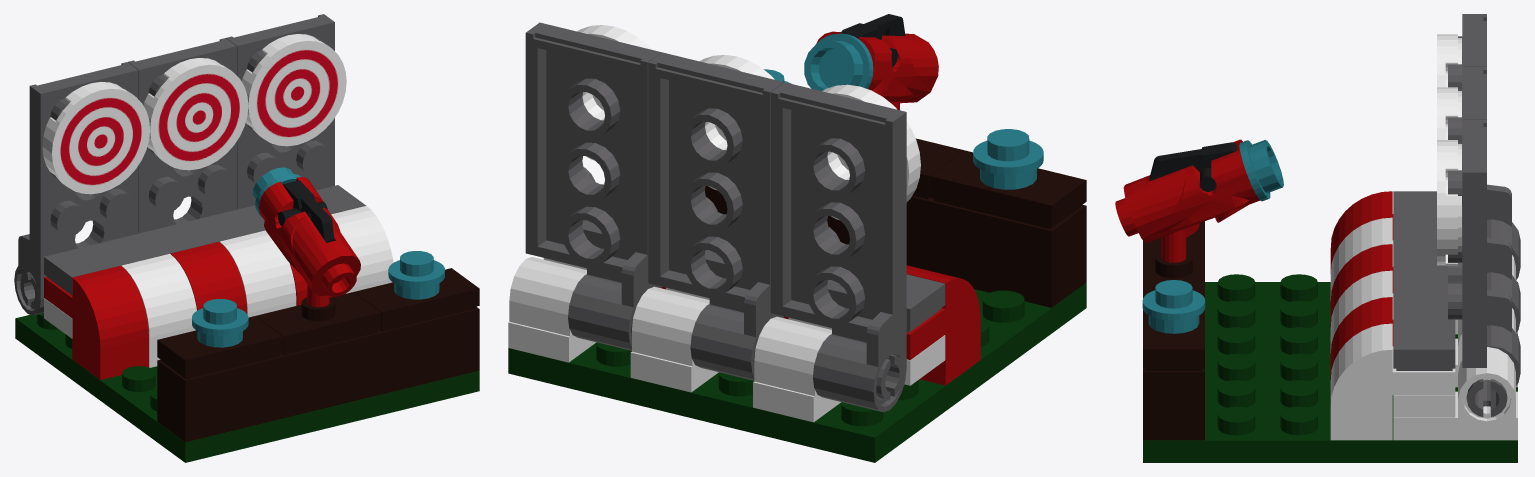
The model's file is WaterGun.FBX.
3 renders of one model, left to right at view 1: azimuth 30°, elevation 25°; view 2: azimuth 150°, elevation 25°; view 3: azimuth 270°, elevation 25°, orthographic. The views are drawn at different scales.
Visible parts, largest first — view 1: Part_3958.1; view 2: Part_3958.1; view 3: Part_3958.1.
Boxes of the visible parts, x1,y1,x2,y2 form: Part_3958.1: (14,14,479,462); Part_3958.1: (508,14,1086,462); Part_3958.1: (1115,14,1520,462).
Size of the model in its own units: 1.89 by 1.61 by 2.04.
Materials: 8 (1 with a texture image).
